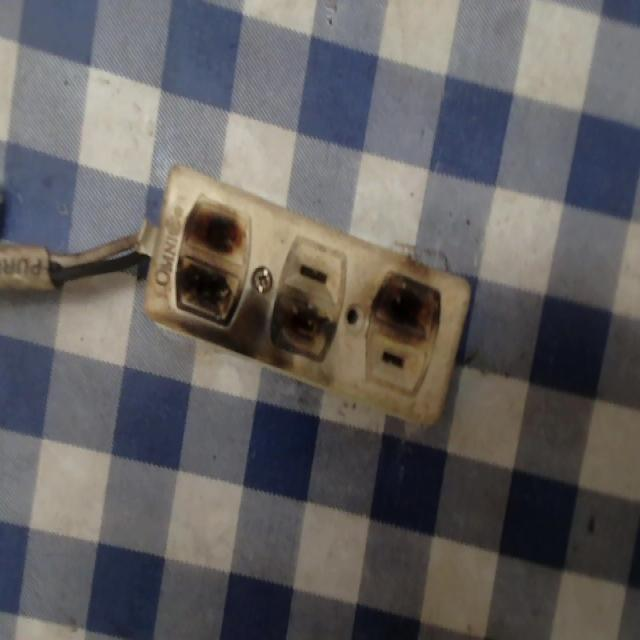-: (170, 181, 249, 343), (358, 269, 447, 348), (262, 286, 341, 366)
